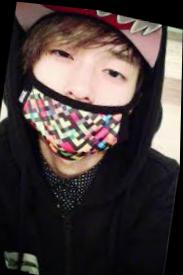WRONG: (21, 18, 141, 169)
